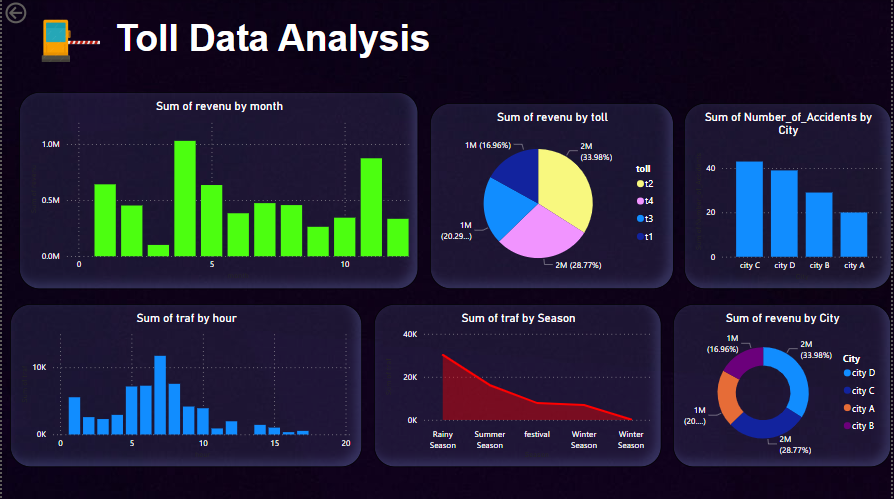

The dashboard page shown, as its layout file describes it:
{"tool":"powerbi","page":{"name":"Page 1","canvas":[1280,720],"ordinal":0},"visuals":[{"type":"clusteredColumnChart","fields":{"Y":["Sum(dataforbi.revenu)"],"Category":["dataforbi.month"]},"box":[25.2,134.2,575.4,283.5],"z":0},{"type":"actionButton","box":[0,0,100,40],"z":1000},{"type":"pieChart","fields":{"Category":["dataforbi.toll"],"Y":["Sum(dataforbi.revenu)"]},"box":[615.7,149.3,350.6,268.4],"z":2000},{"type":"textbox","box":[158.4,20.2,933.1,87.8],"z":3000},{"type":"clusteredColumnChart","fields":{"Y":["Sum(dataforbi.traf)"],"Category":["dataforbi.hour"]},"box":[11.7,439.5,506.6,234.9],"z":4000},{"type":"areaChart","fields":{"Category":["dataforbi.Season"],"Y":["Sum(dataforbi.traf)"]},"box":[535.2,439.5,414.4,234.9],"z":5000},{"type":"donutChart","fields":{"Category":["dataforbi.City"],"Y":["Sum(dataforbi.revenu)"]},"box":[966.3,439.5,313.7,234.9],"z":6000},{"type":"lineClusteredColumnComboChart","fields":{"Y":["Sum(dataforbi.Number_of_Accidents)"],"Category":["dataforbi.City"]},"box":[981.4,149.3,298.6,268.4],"z":7000},{"type":"image","box":[38.9,0,119.5,119.5],"z":7001}]}

Visuals, with their boxes in screenshot pixels (x1, y1, x2, y2), scaled from the page's 1280x720 canvas onto the 894x499 screenshot:
clusteredColumnChart - Sum(dataforbi.revenu) x dataforbi.month: {"left": 18, "top": 93, "right": 419, "bottom": 289}
actionButton: {"left": 0, "top": 0, "right": 70, "bottom": 28}
pieChart - dataforbi.toll x Sum(dataforbi.revenu): {"left": 430, "top": 103, "right": 675, "bottom": 289}
textbox: {"left": 111, "top": 14, "right": 762, "bottom": 75}
clusteredColumnChart - Sum(dataforbi.traf) x dataforbi.hour: {"left": 8, "top": 305, "right": 362, "bottom": 467}
areaChart - dataforbi.Season x Sum(dataforbi.traf): {"left": 374, "top": 305, "right": 663, "bottom": 467}
donutChart - dataforbi.City x Sum(dataforbi.revenu): {"left": 675, "top": 305, "right": 893, "bottom": 467}
lineClusteredColumnComboChart - Sum(dataforbi.Number_of_Accidents) x dataforbi.City: {"left": 685, "top": 103, "right": 893, "bottom": 289}
image: {"left": 27, "top": 0, "right": 111, "bottom": 83}
